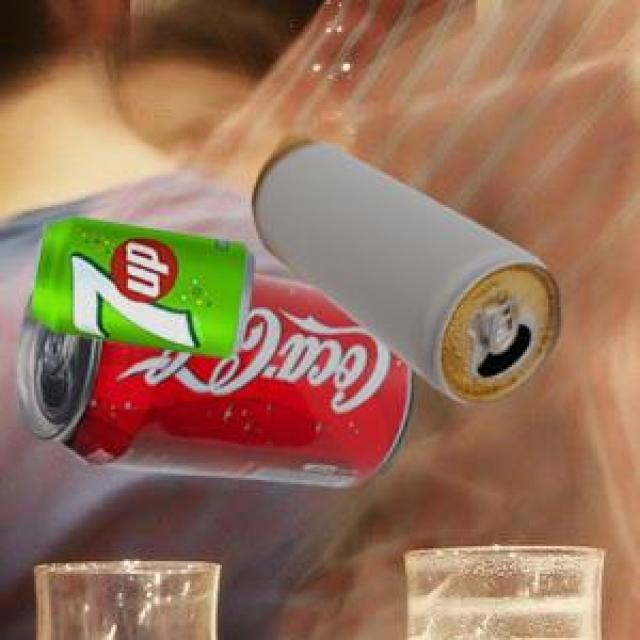Can: (14, 272, 411, 483), (249, 131, 560, 400), (28, 214, 251, 355)
